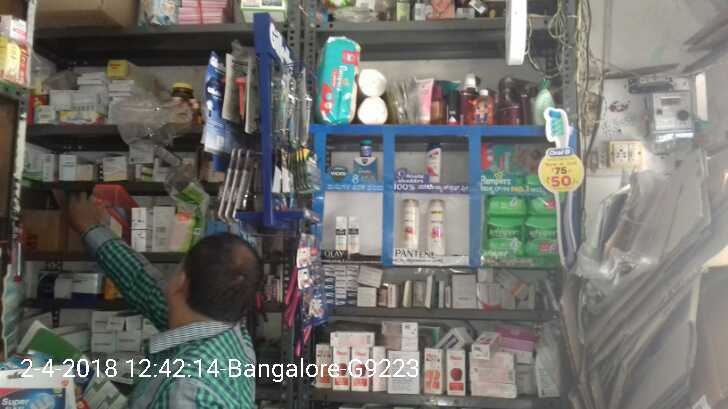vicks: (351, 140, 378, 180)
